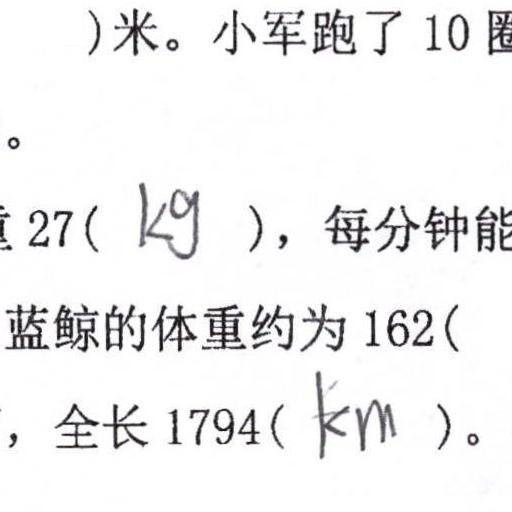ans: (309, 372, 401, 463), (129, 175, 202, 261)
